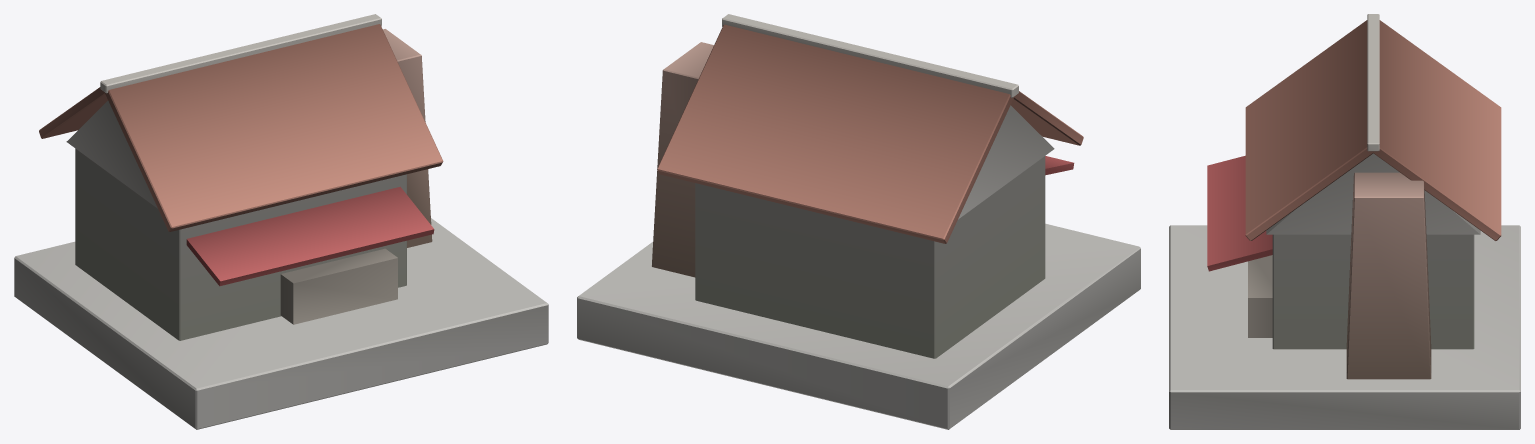
Rendered from butcher_l1_lod2.glb.
The picture shows the model from 3 angles, left to right: view 1: azimuth 30°, elevation 25°; view 2: azimuth 150°, elevation 25°; view 3: azimuth 270°, elevation 25°; orthographic projection. The views are drawn at different scales.
Visible parts, largest first — view 1: butcher_l1_lod2; view 2: butcher_l1_lod2; view 3: butcher_l1_lod2.
Part boxes in pixels (x1,y1,x2,y2): butcher_l1_lod2: (14,14,548,429); butcher_l1_lod2: (577,14,1140,429); butcher_l1_lod2: (1169,14,1520,429).
Bounding box in the file's own units: 7.6 × 5.48 × 6.8.
